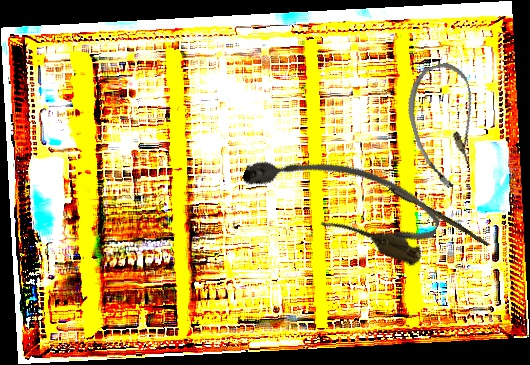Cannula: (236, 126, 447, 271), (397, 58, 495, 193)
Surgical Spoon: (354, 166, 492, 247)
